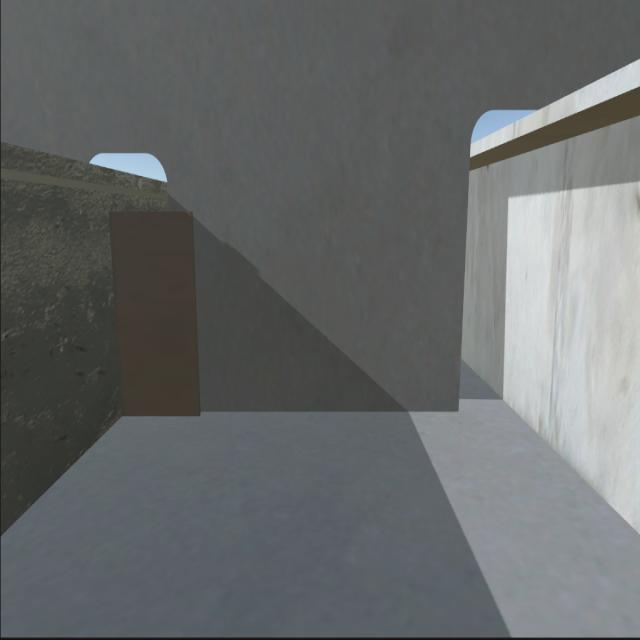fillet_yong_jeop_jang: (120, 402, 460, 417)
longi_yong_jeop_jang: (105, 218, 129, 413)
plate_CP01: (111, 209, 193, 420)
